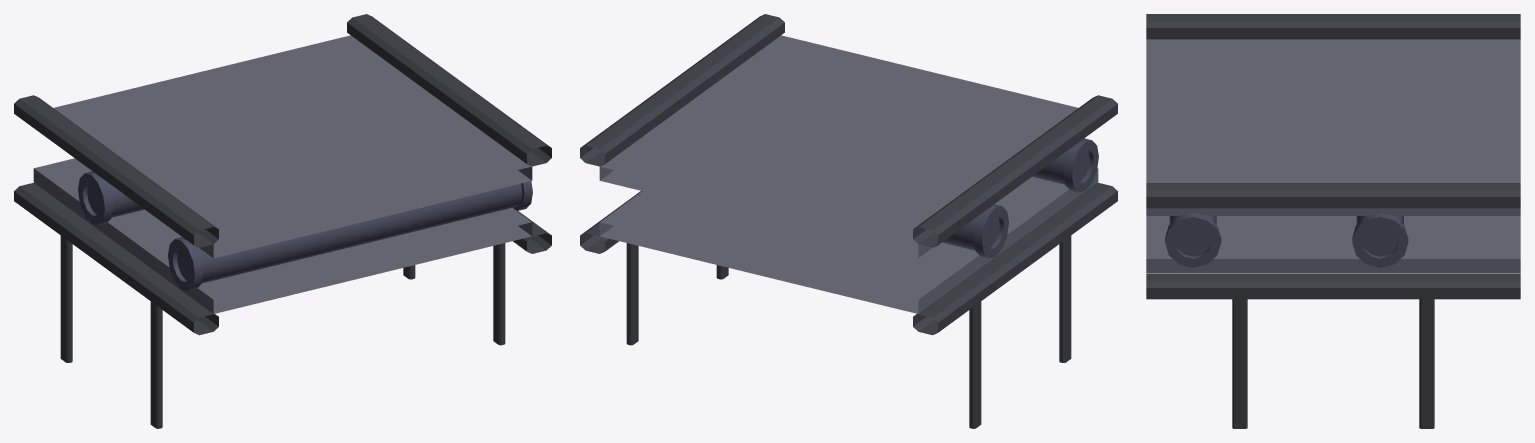
The model's file is SM_Conveyor.fbx.
3 renders of one model, left to right at view 1: azimuth 30°, elevation 25°; view 2: azimuth 150°, elevation 25°; view 3: azimuth 270°, elevation 25°, orthographic. The views are drawn at different scales.
Parts seen in each view (by area): view 1: SM_Conveyor, axle, axle1; view 2: SM_Conveyor, axle1, axle; view 3: SM_Conveyor, axle, axle1.
Boxes of the visible parts, bbox=[...] form: SM_Conveyor: bbox=[14, 14, 551, 428]; axle: bbox=[168, 181, 532, 291]; axle1: bbox=[78, 171, 144, 225]; SM_Conveyor: bbox=[580, 14, 1117, 428]; axle1: bbox=[942, 204, 1008, 258]; axle: bbox=[1032, 138, 1098, 192]; SM_Conveyor: bbox=[1146, 14, 1520, 428]; axle: bbox=[1165, 212, 1221, 267]; axle1: bbox=[1352, 212, 1408, 267].
Size of the model in its own units: 230 by 140 by 200.
